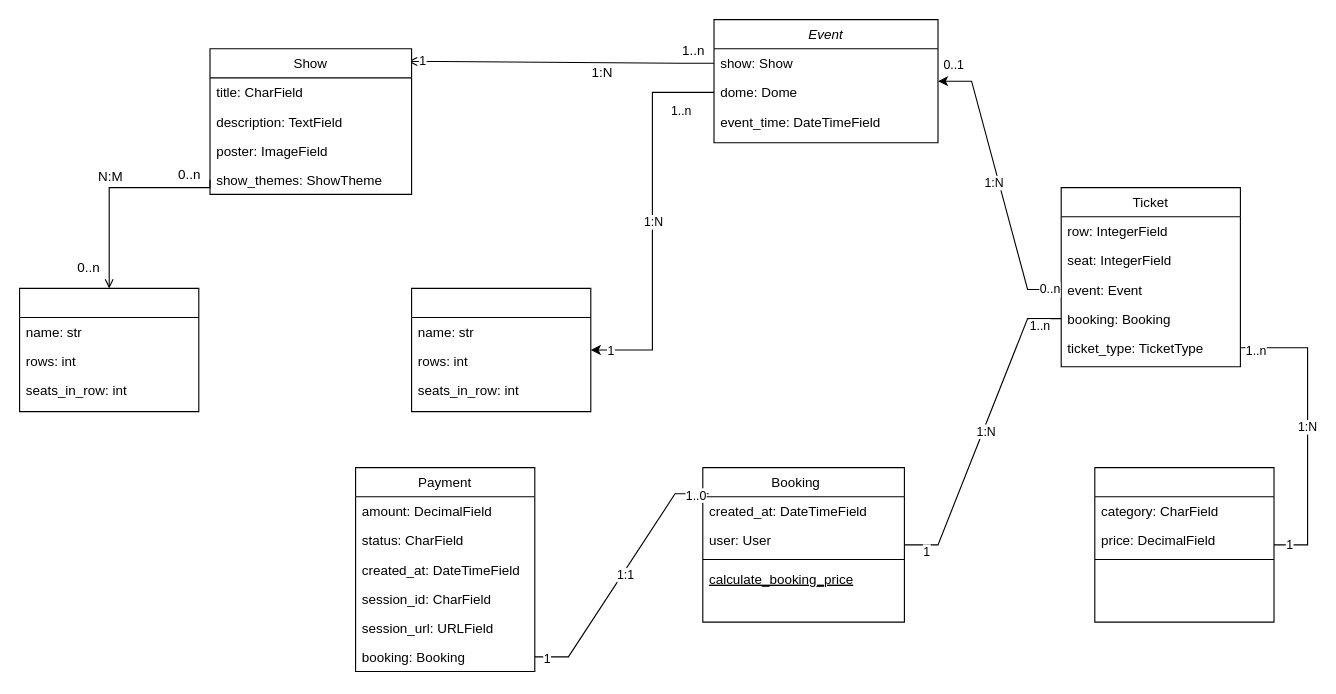
This 1336x694 diagram has some shape labels left out. Here are the shapes that lost their labels. From the top down, the box of each, then its label:
(18, 287, 199, 412): ShowTheme
(410, 287, 591, 412): Dome
(1094, 466, 1274, 622): TicketType
